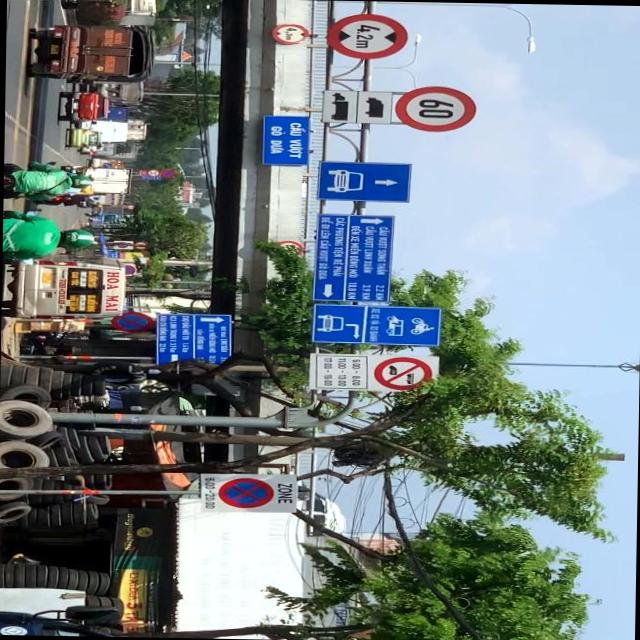P-117: (326, 15, 406, 60)
P-130: (217, 477, 274, 508)
